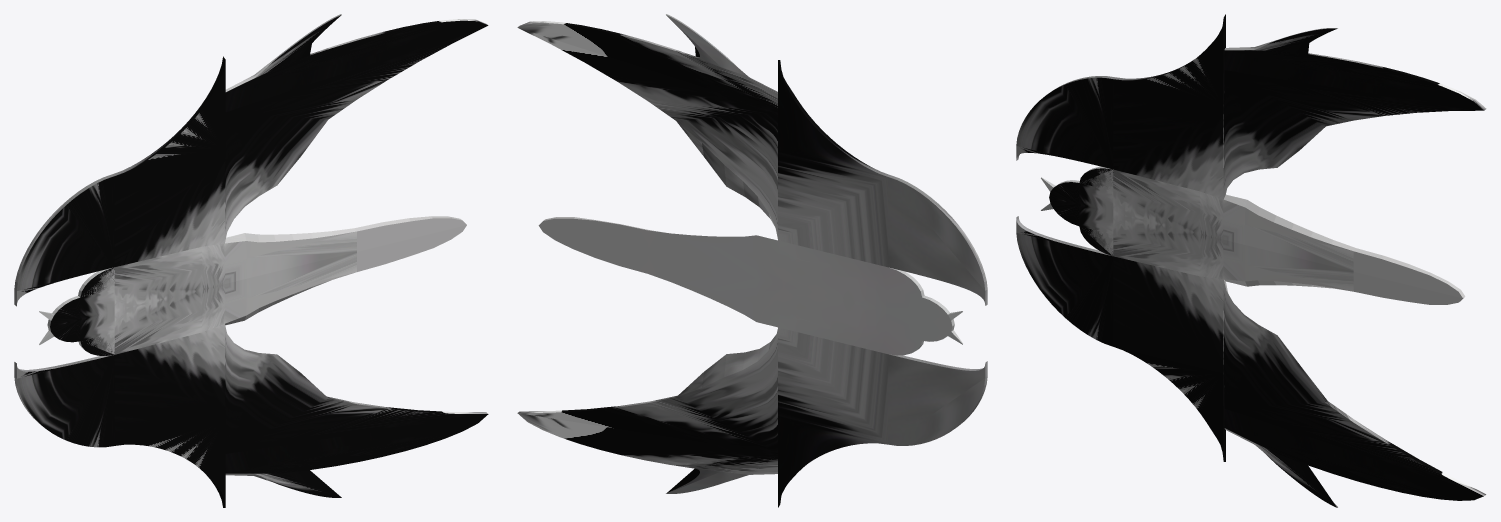
The model's file is Space_Ship_White_2.fbx.
3 views of the same model, side by side, from view 1: azimuth 30°, elevation 25°; view 2: azimuth 150°, elevation 25°; view 3: azimuth 330°, elevation 25° (orthographic).
Parts seen in each view (by area): view 1: Cube; view 2: Cube; view 3: Cube.
Boxes of the visible parts, x1,y1,x2,y2 form: Cube: [14, 14, 488, 507]; Cube: [517, 14, 987, 507]; Cube: [1016, 14, 1486, 507].
Bounding box in the file's own units: 1 × 0.981 × 0.0129.
1 material, 1 textured.
